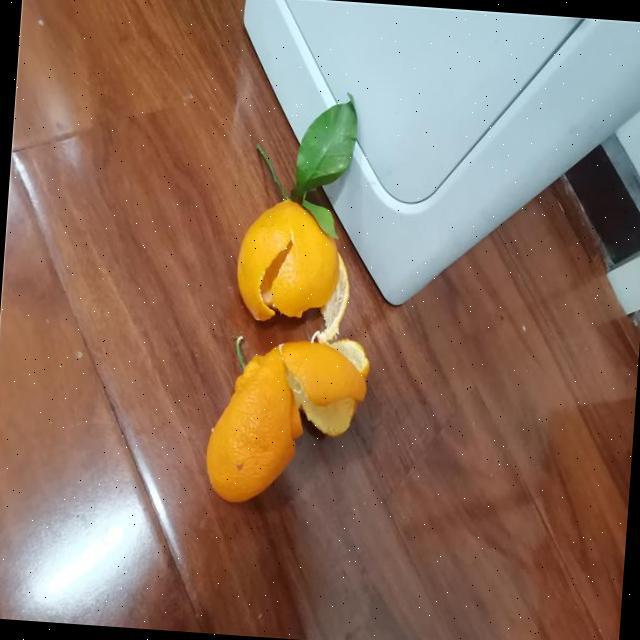orange-peel: (201, 342, 302, 506), (231, 194, 343, 326)
